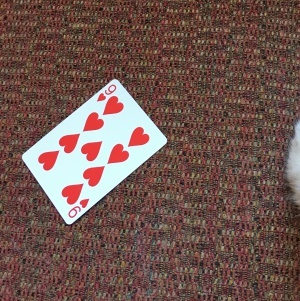card: (22, 76, 168, 225)
